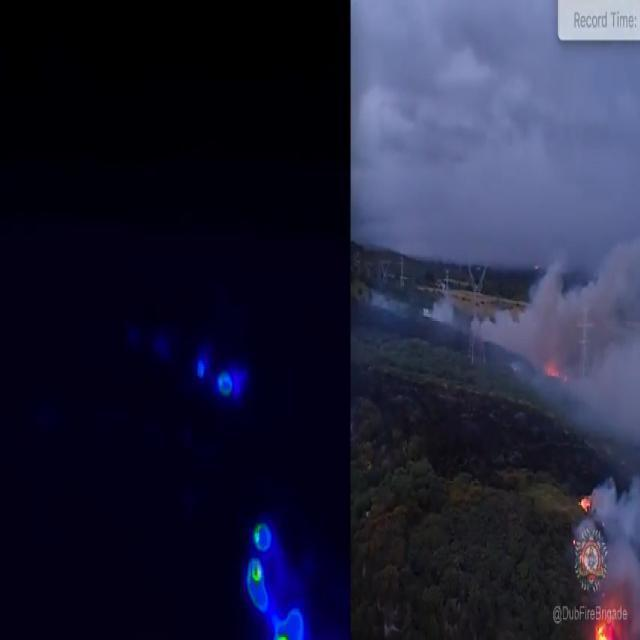fire: (239, 514, 309, 640), (186, 348, 258, 408)
